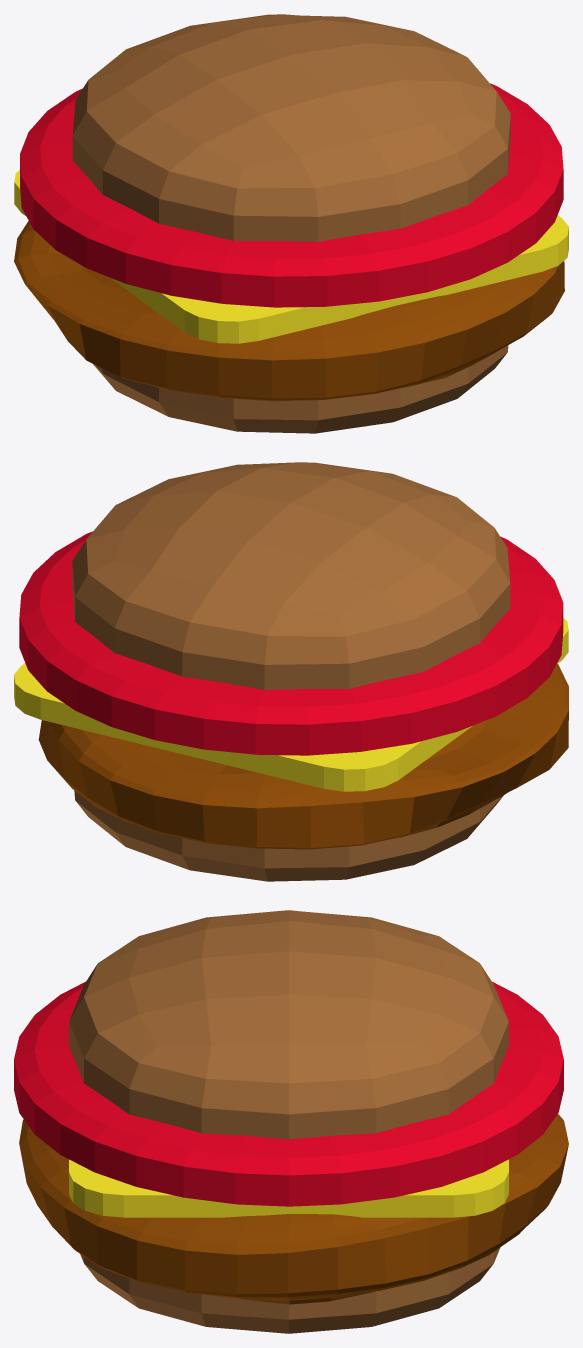
The model's file is hamburger birleşmiş.fbx.
The picture shows the model from 3 angles, top to bottom: view 1: azimuth 30°, elevation 25°; view 2: azimuth 150°, elevation 25°; view 3: azimuth 270°, elevation 25°; orthographic projection.
Visible parts, largest first — view 1: Cube.003; view 2: Cube.003; view 3: Cube.003.
Part boxes in pixels (box(x1,y1,x2,y2)): Cube.003: box(14, 14, 568, 433); Cube.003: box(14, 462, 568, 881); Cube.003: box(14, 910, 568, 1333).
Bounding box in the file's own units: 50.88 × 33.49 × 50.46.
